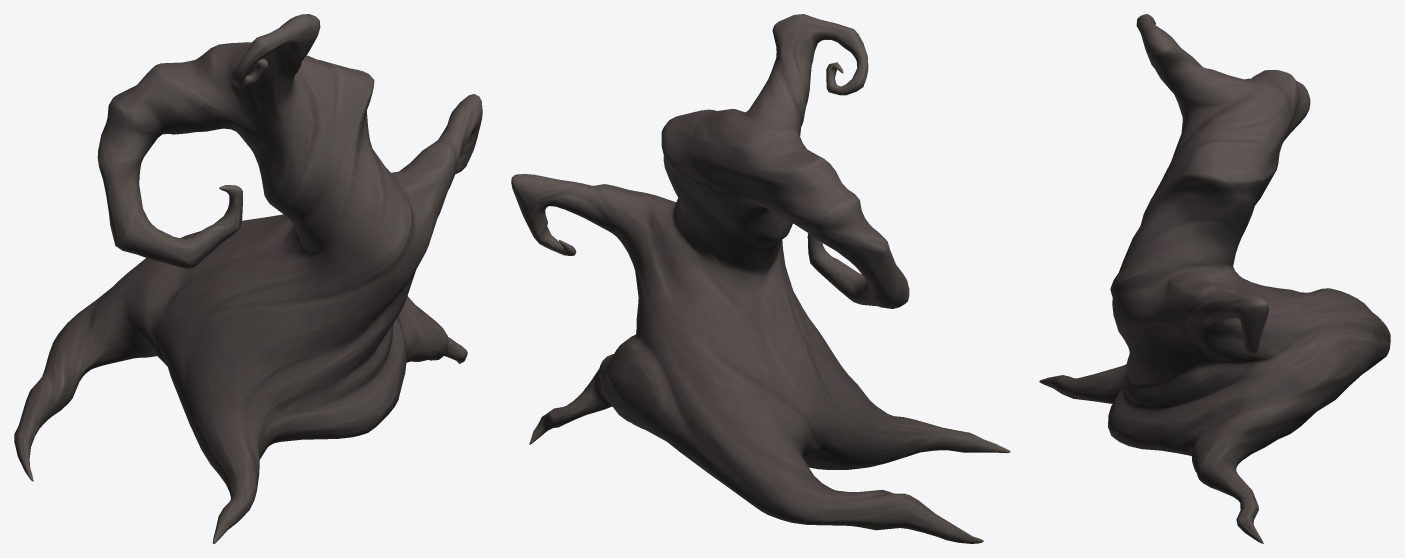
Rendered from swirly_tree_02_b.glb.
3 views of the same model, side by side, from view 1: azimuth 30°, elevation 25°; view 2: azimuth 150°, elevation 25°; view 3: azimuth 270°, elevation 25° (orthographic). The views are drawn at different scales.
Visible parts, largest first — view 1: SM_KC_Swirly_Tree_02_B; view 2: SM_KC_Swirly_Tree_02_B; view 3: SM_KC_Swirly_Tree_02_B.
Boxes of the visible parts, left/top/right/bottom form: SM_KC_Swirly_Tree_02_B: left=14, top=14, right=482, bottom=543; SM_KC_Swirly_Tree_02_B: left=511, top=14, right=1010, bottom=543; SM_KC_Swirly_Tree_02_B: left=1039, top=14, right=1390, bottom=543.
Size of the model in its own units: 18.06 by 16.77 by 12.64.
Materials: 1 (1 with a texture image).
